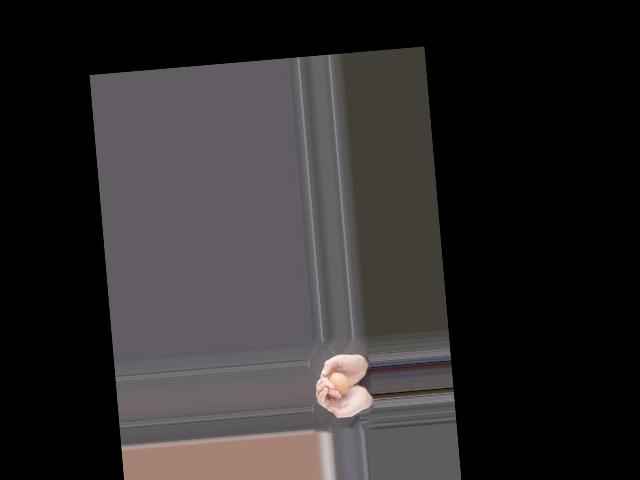egg: (328, 371, 350, 397)
